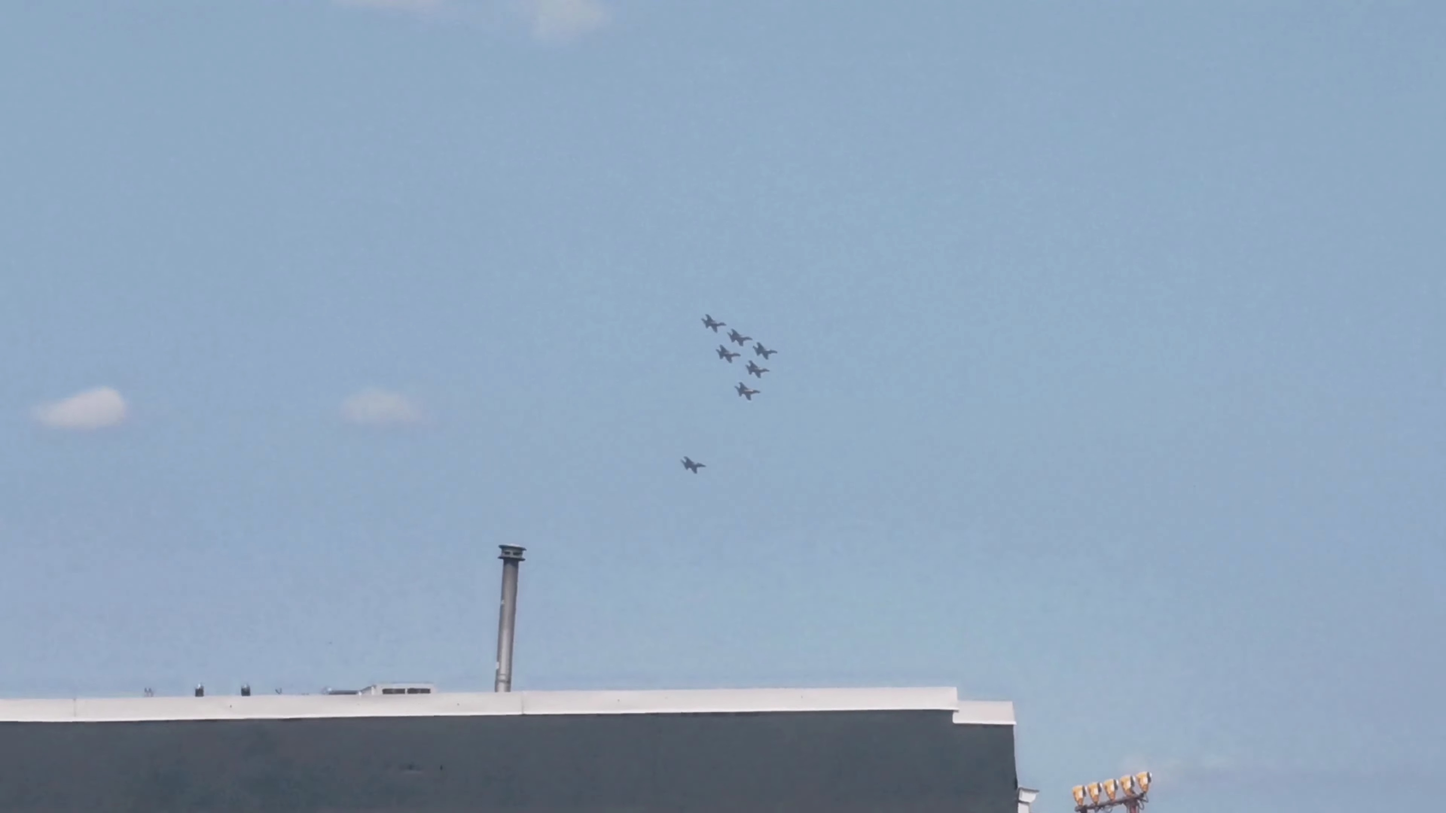airplane: (696, 311, 724, 336), (727, 325, 755, 350), (714, 344, 743, 368), (750, 339, 778, 363), (679, 453, 707, 476), (742, 359, 769, 382), (733, 381, 761, 402)
